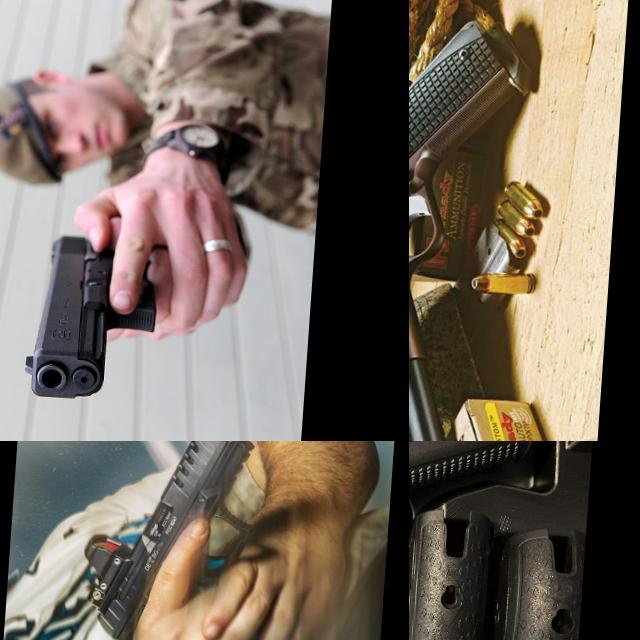handgun: (409, 6, 539, 441), (409, 441, 607, 640), (76, 441, 270, 640), (19, 228, 164, 407)
